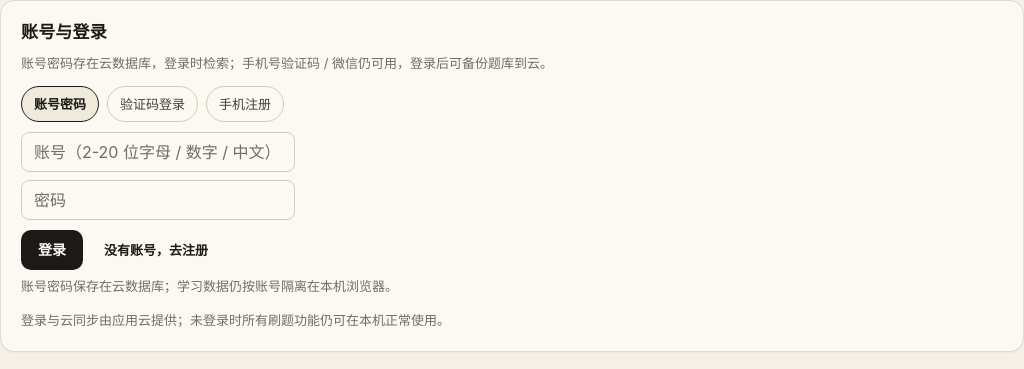
Test case: 账号卡片 › 账号密码登录成功后显示「已登录」
Expected: the button "账号密码" is shown, [21,86,99,122]
Type "alice" into the field labelled "账号" at [158, 152], box [21,132,295,172]
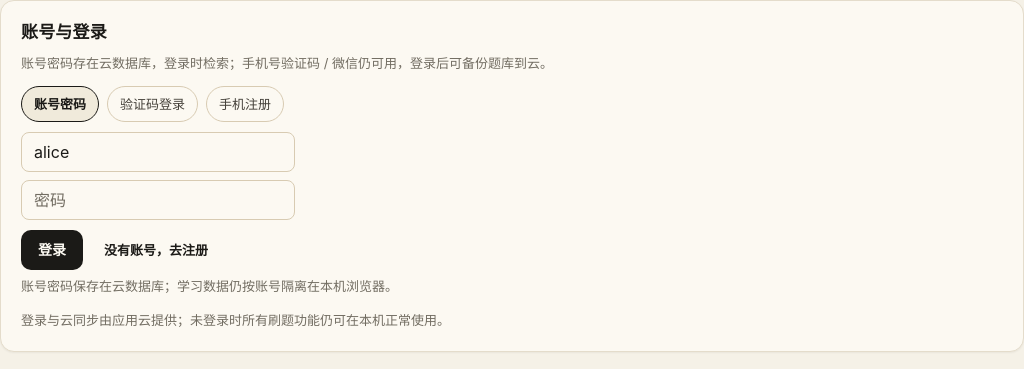
Type "pw123456" into the password field labelled "密码" at [158, 200], box [21,180,295,220]
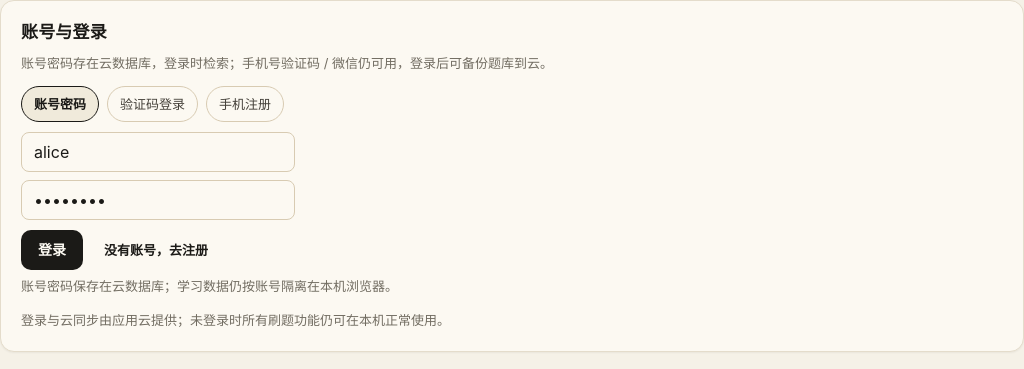
Click the button "登录" at [52, 250], box [21,230,83,270]
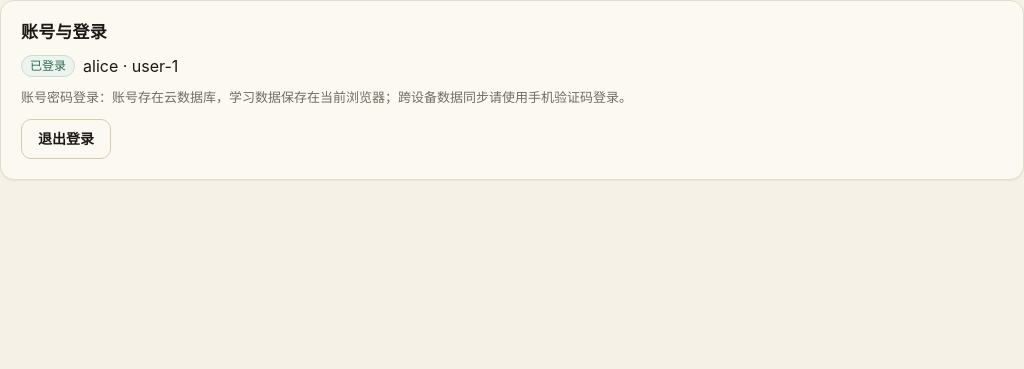
Expected: the text "已登录" is shown, [21,55,75,77]
